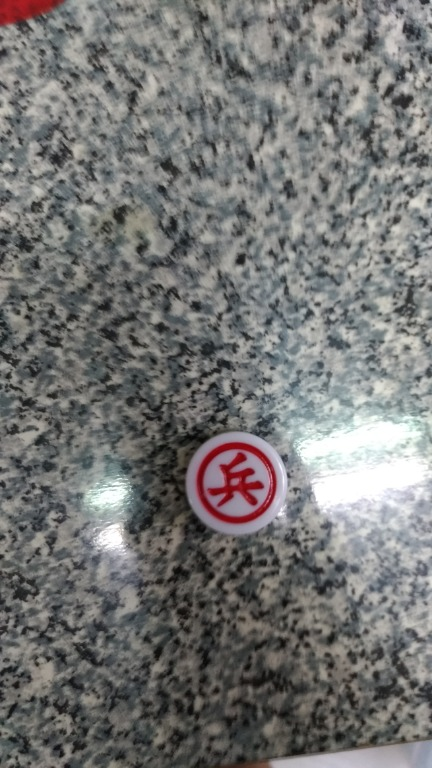r-pawn: (183, 427, 296, 540)
